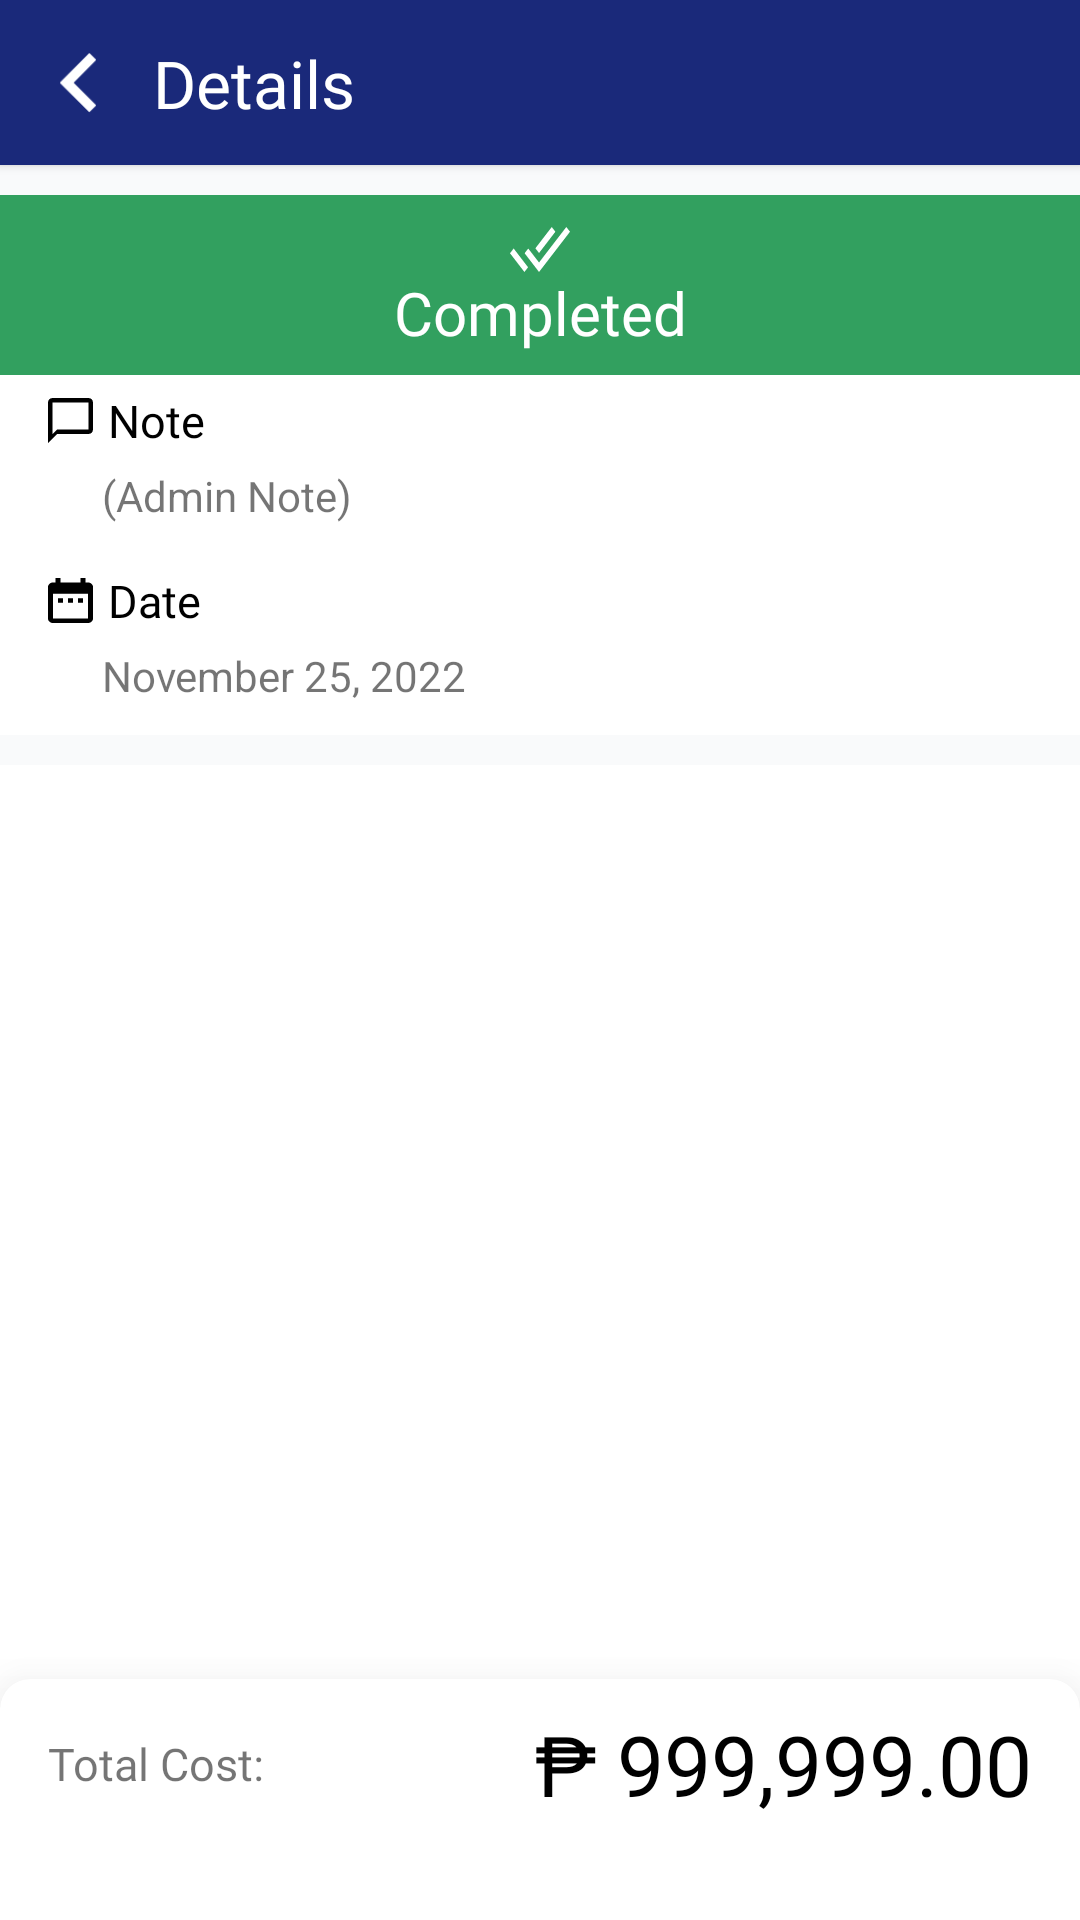

Screen size 1080*1920. Icon name, then its center in pixels as (x=x, y=y):
back: (x=78, y=82)
